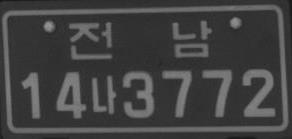1: (18, 71, 46, 120)
2: (241, 67, 276, 118)
3: (121, 69, 156, 119)
4: (54, 69, 86, 119)
7: (200, 67, 233, 118), (161, 68, 192, 118)
나: (90, 74, 116, 115)
전남_D: (68, 18, 213, 61)
